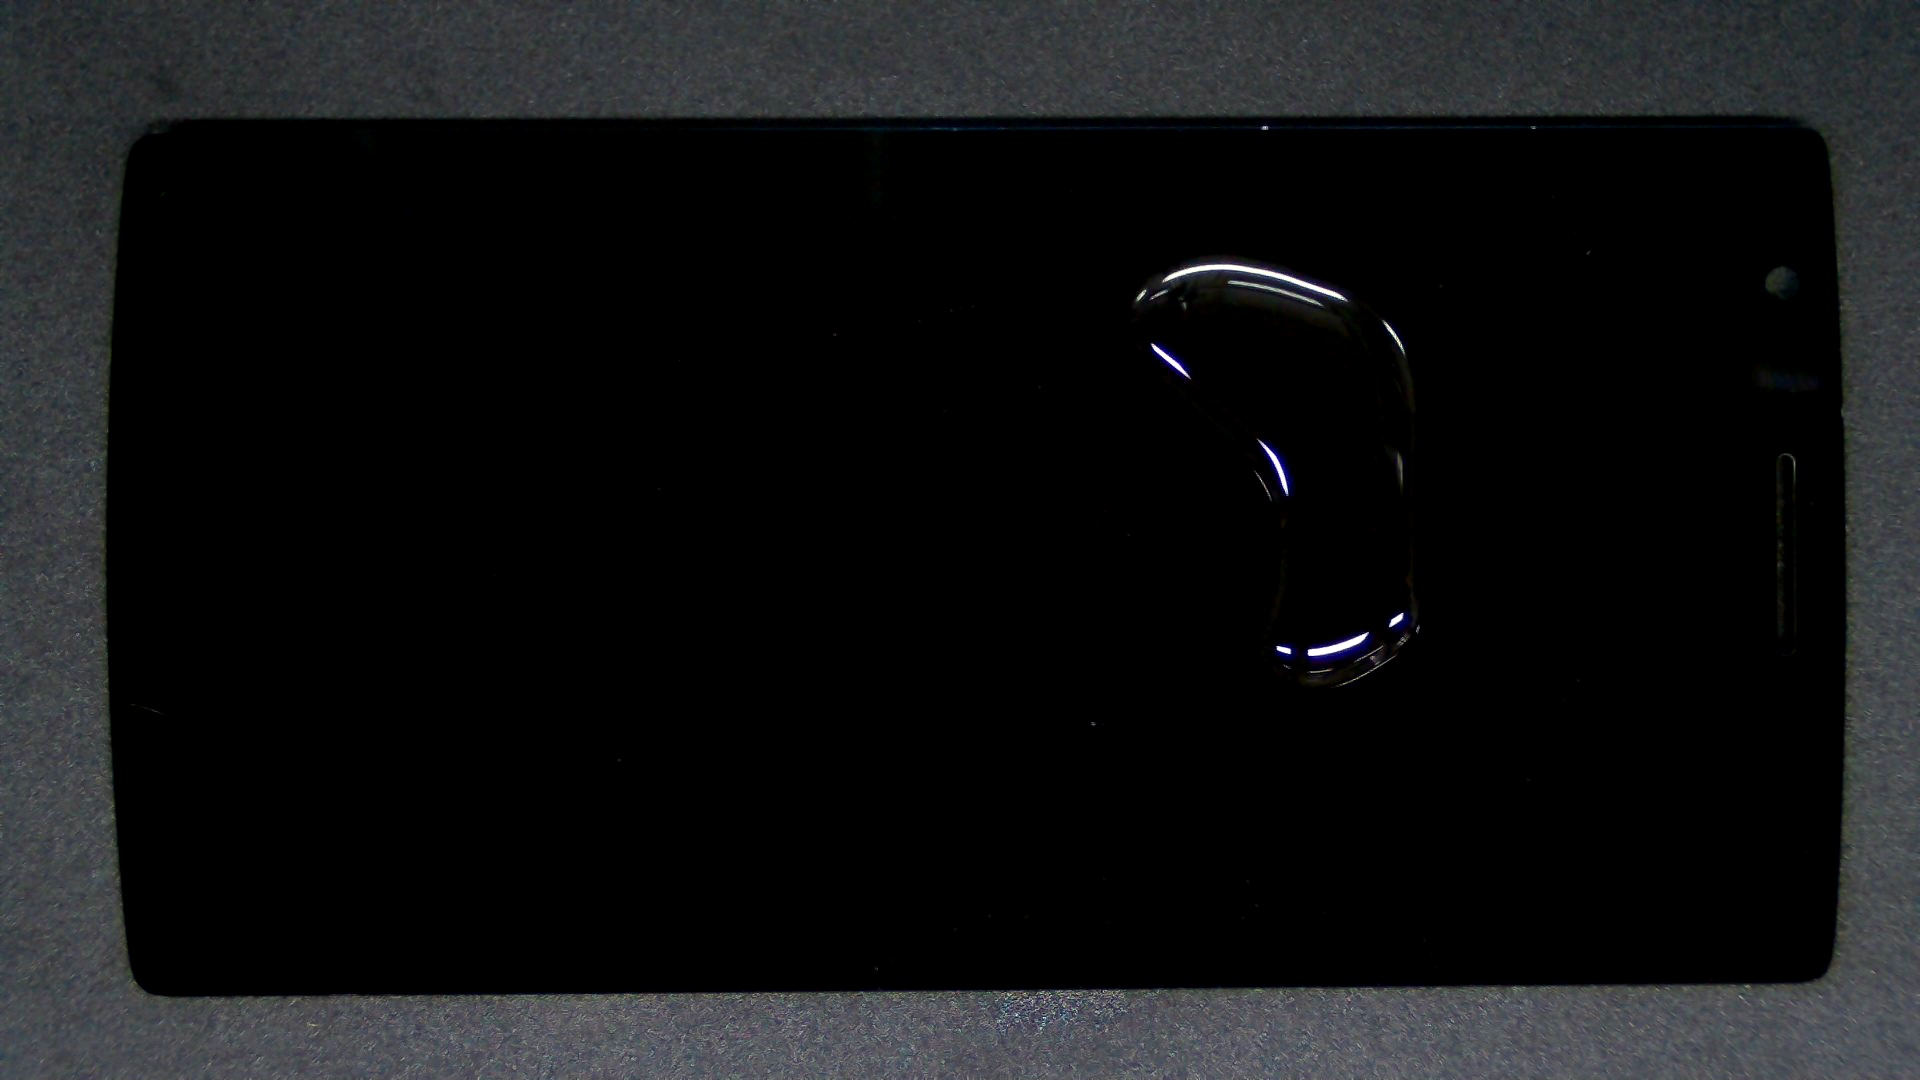oil: (609, 125, 1825, 378)
